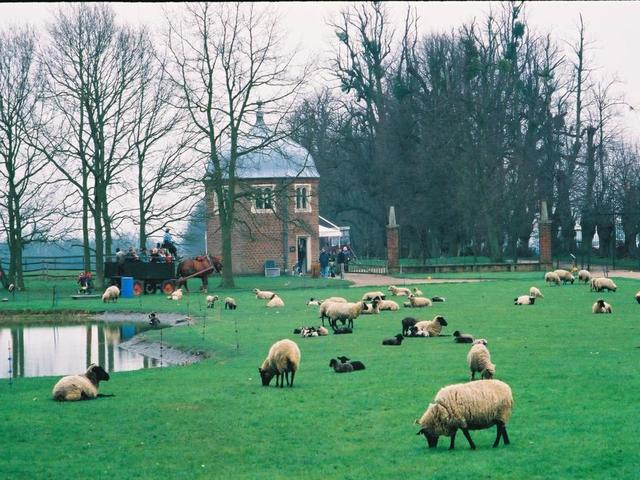sheep: (389, 386, 619, 479), (46, 354, 113, 407)
